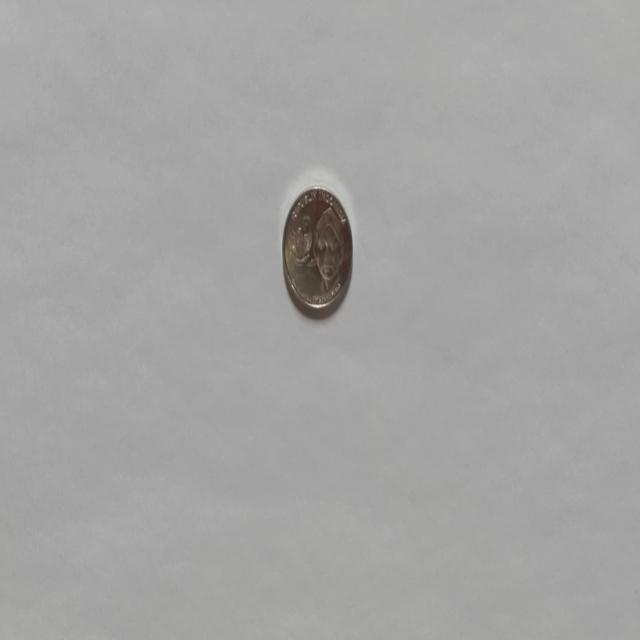dua ratus rupiah: (281, 183, 353, 318)
